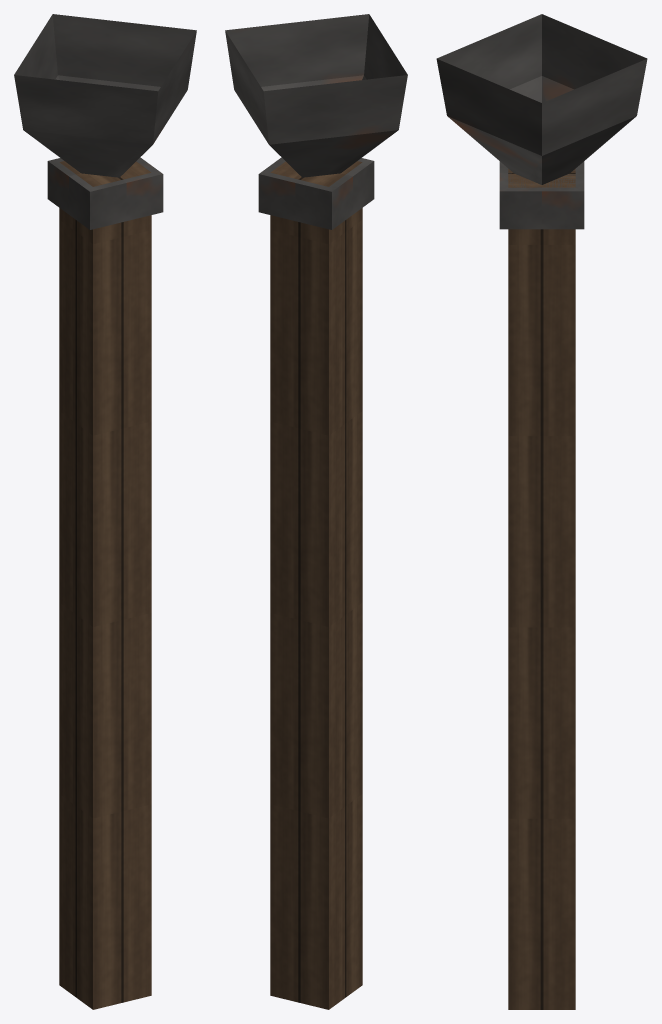
File: Arena_Post_Brazier_1_LOD2.gltf
The picture shows the model from 3 angles, left to right: view 1: azimuth 30°, elevation 25°; view 2: azimuth 150°, elevation 25°; view 3: azimuth 270°, elevation 25°; orthographic projection.
Parts seen in each view (by area): view 1: Arena_Post_Brazier_1_LOD2; view 2: Arena_Post_Brazier_1_LOD2; view 3: Arena_Post_Brazier_1_LOD2.
Boxes of the visible parts, <box> form: Arena_Post_Brazier_1_LOD2: <box>14,14,196,1009</box>; Arena_Post_Brazier_1_LOD2: <box>225,14,407,1009</box>; Arena_Post_Brazier_1_LOD2: <box>436,14,647,1009</box>.
Bounding box in the file's own units: 1 × 4.9 × 1.
Materials: 2 (2 with a texture image).
